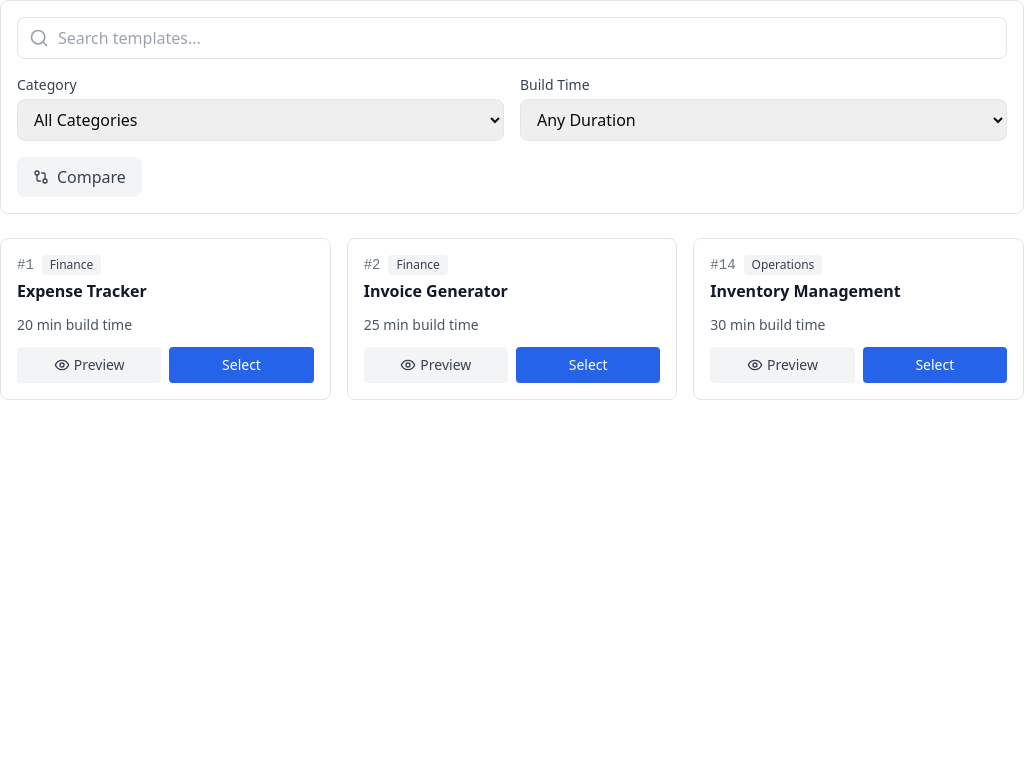
it: TemplateSelector › Template Selection › should allow adding fit reason
This screenshot has width=1024, height=768.
Click the button "Select" below "20" at (241, 365), box [169,347,314,383]
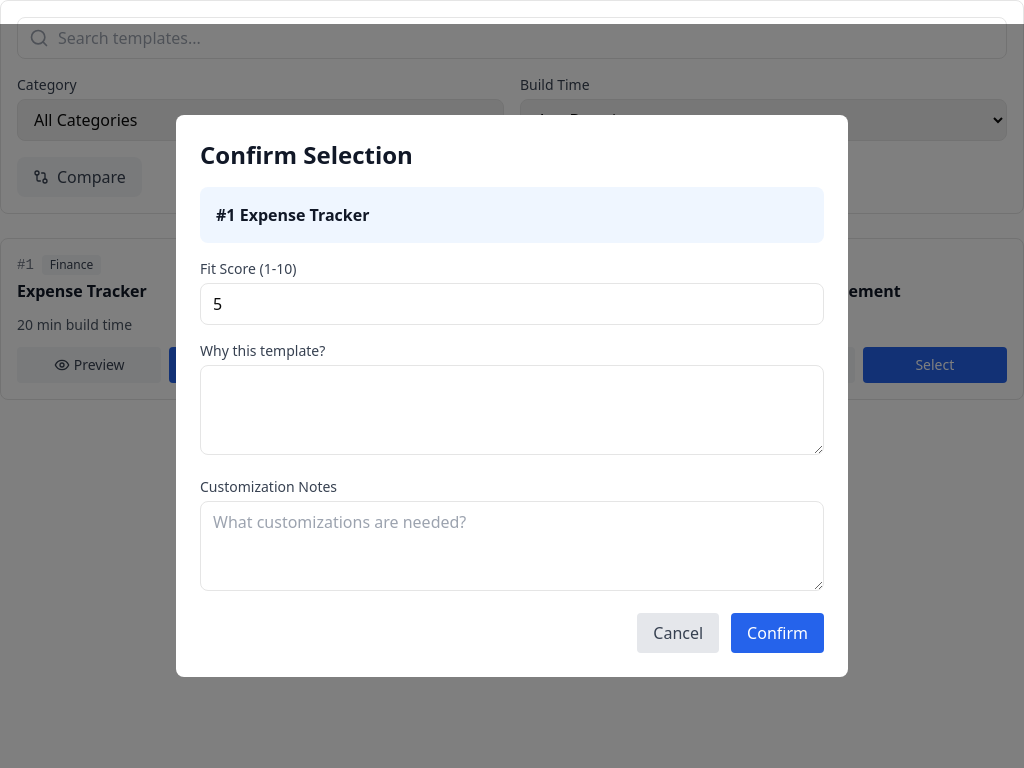
Expected: the text box labelled "Why this template?" is shown, [200,365,824,455]
